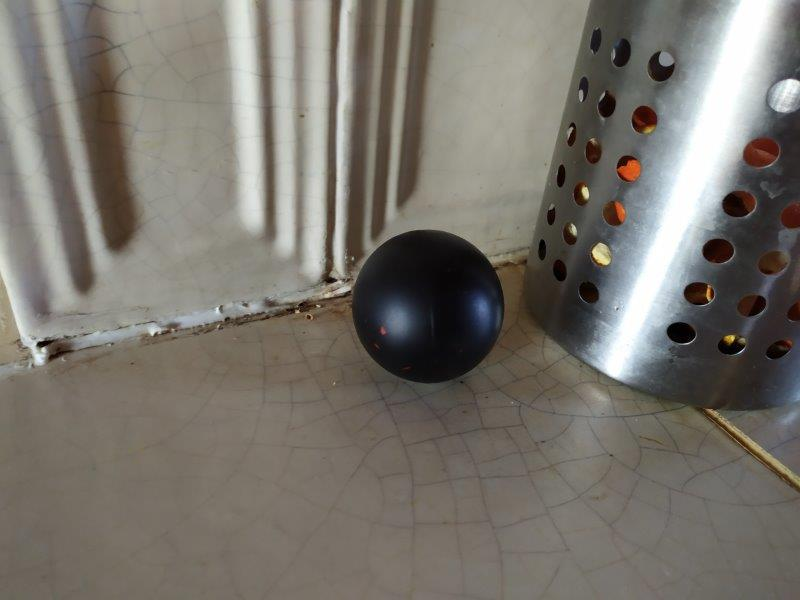nera: (350, 225, 506, 383)
